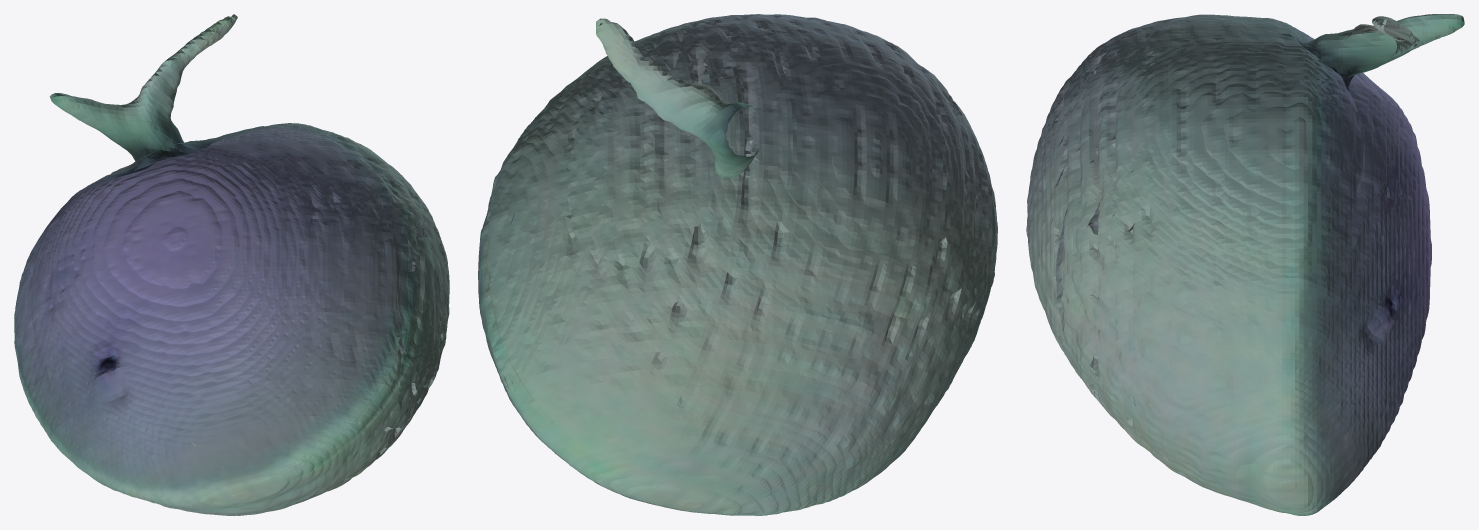
3 renders of one model, left to right at view 1: azimuth 30°, elevation 25°; view 2: azimuth 150°, elevation 25°; view 3: azimuth 270°, elevation 25°, orthographic. The views are drawn at different scales.
Parts seen in each view (by area): view 1: geometry_0; view 2: geometry_0; view 3: geometry_0.
Boxes of the visible parts, box(x1,y1,x2,y2) form: geometry_0: box(14, 14, 449, 515); geometry_0: box(478, 14, 997, 515); geometry_0: box(1026, 14, 1464, 515).
Size of the model in its own units: 1.52 by 1.6 by 1.31.
